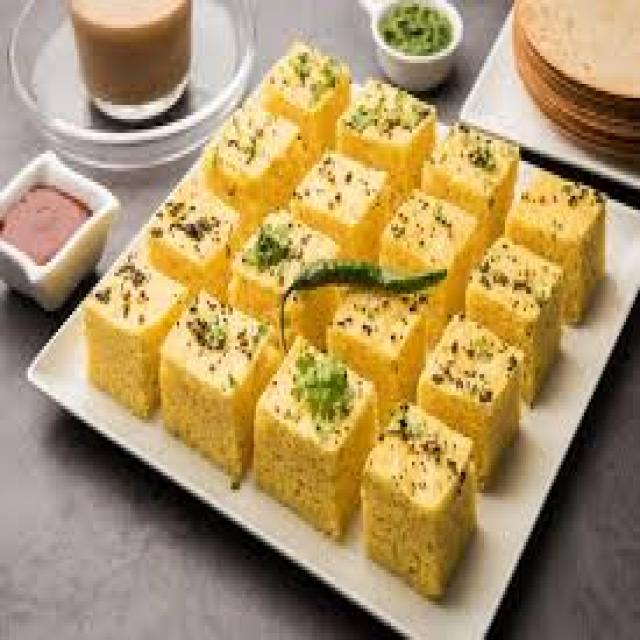DHOKLA: (256, 336, 375, 535), (161, 290, 279, 483), (363, 420, 475, 595), (84, 227, 186, 416), (419, 315, 521, 483), (379, 189, 486, 336), (465, 238, 559, 399), (505, 168, 600, 318), (328, 290, 426, 423), (293, 150, 400, 255), (214, 91, 317, 199), (335, 80, 435, 185), (149, 175, 235, 287), (261, 42, 349, 143), (424, 126, 517, 217)
